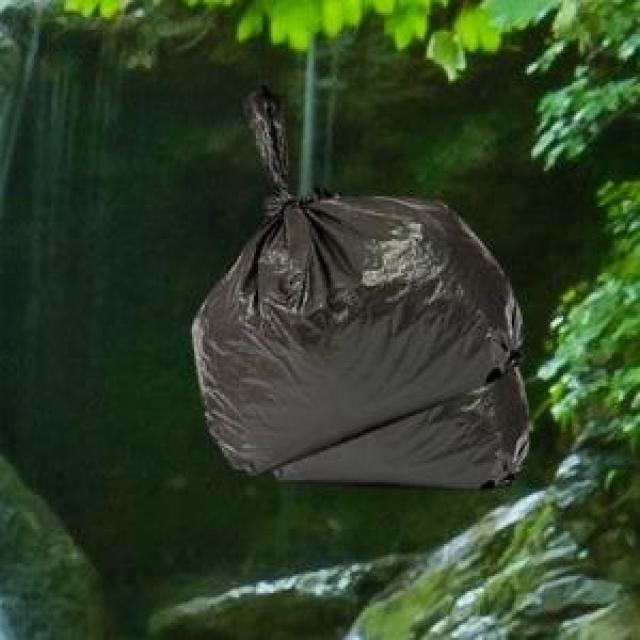Trashbag: (186, 85, 541, 502)
